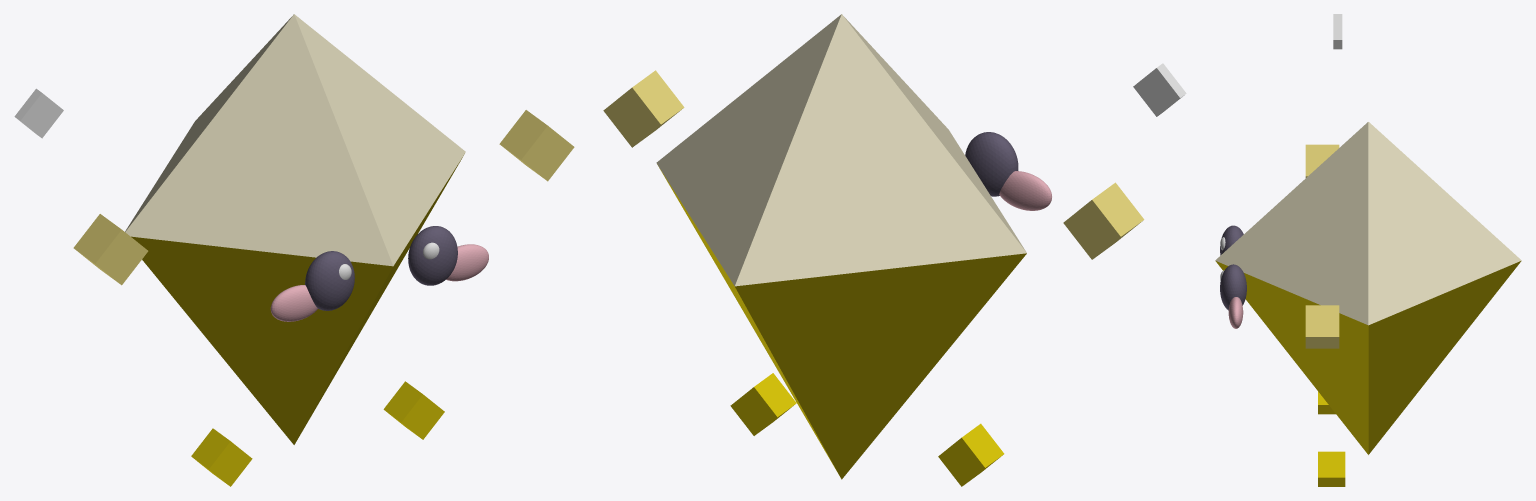
File: kiratsubu_sun.glb
3 views of the same model, side by side, from view 1: azimuth 30°, elevation 25°; view 2: azimuth 150°, elevation 25°; view 3: azimuth 270°, elevation 25° (orthographic). The views are drawn at different scales.
Visible parts, largest first — view 1: kiratsubu_0, kiratsubu_1, kiratsubu_2, kiratsubu_3, kiratsubu_10, kiratsubu_7, kiratsubu_5, kiratsubu_4, kiratsubu_6, kiratsubu_9, kiratsubu_12; view 2: kiratsubu_0, kiratsubu_1, kiratsubu_2, kiratsubu_3, kiratsubu_7, kiratsubu_4, kiratsubu_5, kiratsubu_9, kiratsubu_6; view 3: kiratsubu_0, kiratsubu_1, kiratsubu_3, kiratsubu_5, kiratsubu_10, kiratsubu_2, kiratsubu_12, kiratsubu_6, kiratsubu_7.
Part boxes in pixels (x1,y1,x2,y2): kiratsubu_0: (125,14,465,266); kiratsubu_1: (131,155,463,444); kiratsubu_2: (73,214,148,285); kiratsubu_3: (499,110,574,181); kiratsubu_10: (408,226,457,285); kiratsubu_7: (305,251,354,310); kiratsubu_5: (383,381,444,439); kiratsubu_4: (191,428,252,486); kiratsubu_6: (14,88,63,138); kiratsubu_9: (270,285,317,321); kiratsubu_12: (446,244,488,281); kiratsubu_0: (656,14,1026,286); kiratsubu_1: (657,164,1026,479); kiratsubu_2: (1063,182,1144,259); kiratsubu_3: (603,70,684,147); kiratsubu_7: (965,132,1018,196); kiratsubu_4: (938,423,1004,486); kiratsubu_5: (730,373,796,435); kiratsubu_9: (999,171,1051,210); kiratsubu_6: (1133,63,1186,116); kiratsubu_0: (1215,122,1521,325); kiratsubu_1: (1215,261,1521,454); kiratsubu_3: (1305,305,1339,348); kiratsubu_5: (1318,451,1345,486); kiratsubu_10: (1220,264,1246,310); kiratsubu_2: (1305,144,1339,177); kiratsubu_12: (1228,297,1243,328); kiratsubu_6: (1333,14,1342,49); kiratsubu_7: (1220,225,1243,255).
Size of the model in its own units: 1.56 by 1.21 by 1.
